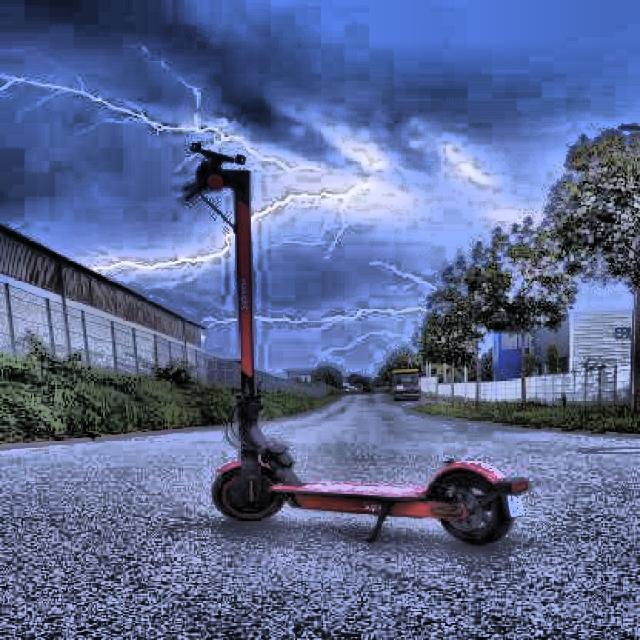bike: (211, 393, 533, 546)
car: (391, 369, 421, 402)
